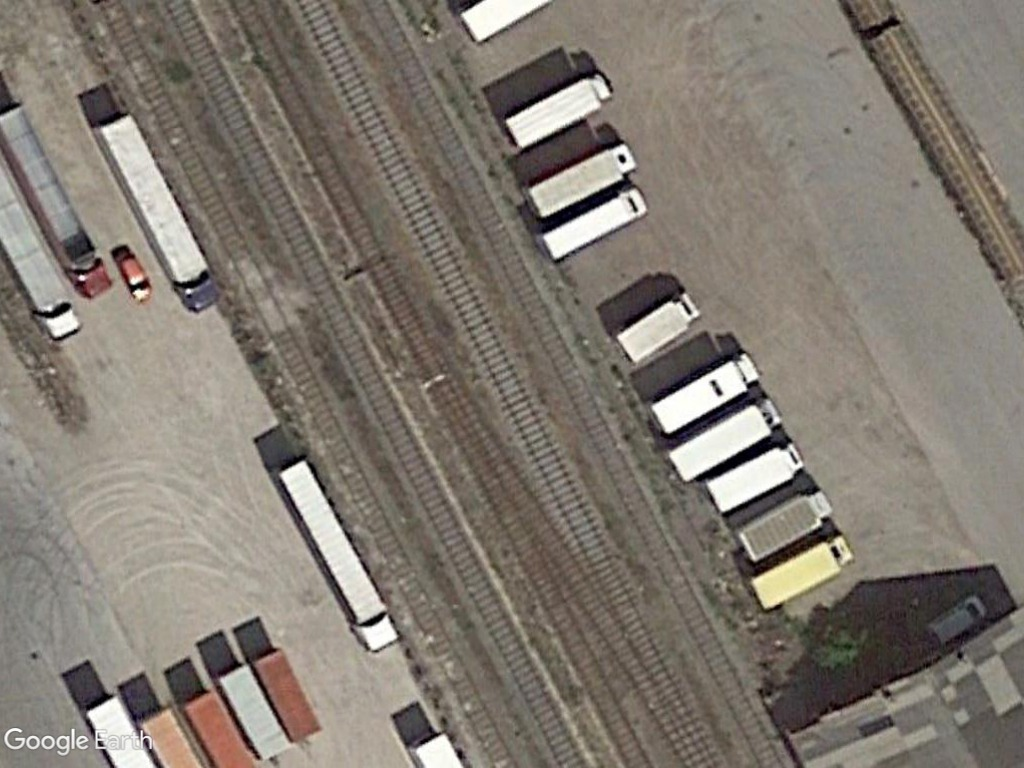car: (108, 240, 153, 305)
longvehicle: (81, 108, 224, 318), (269, 457, 403, 656), (0, 97, 113, 307)
truck: (643, 347, 761, 444), (661, 394, 784, 486), (516, 139, 646, 221), (498, 68, 616, 153), (741, 530, 856, 611), (729, 485, 836, 569), (699, 439, 807, 520), (609, 289, 703, 368)
van: (533, 186, 649, 263), (922, 594, 992, 647)
